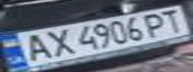0: (109, 18, 130, 45)
4: (72, 22, 96, 52)
6: (121, 15, 151, 43)
9: (90, 20, 115, 48)
A: (15, 32, 54, 63)
P: (139, 11, 172, 38)
T: (154, 8, 190, 34)
X: (39, 27, 75, 58)
